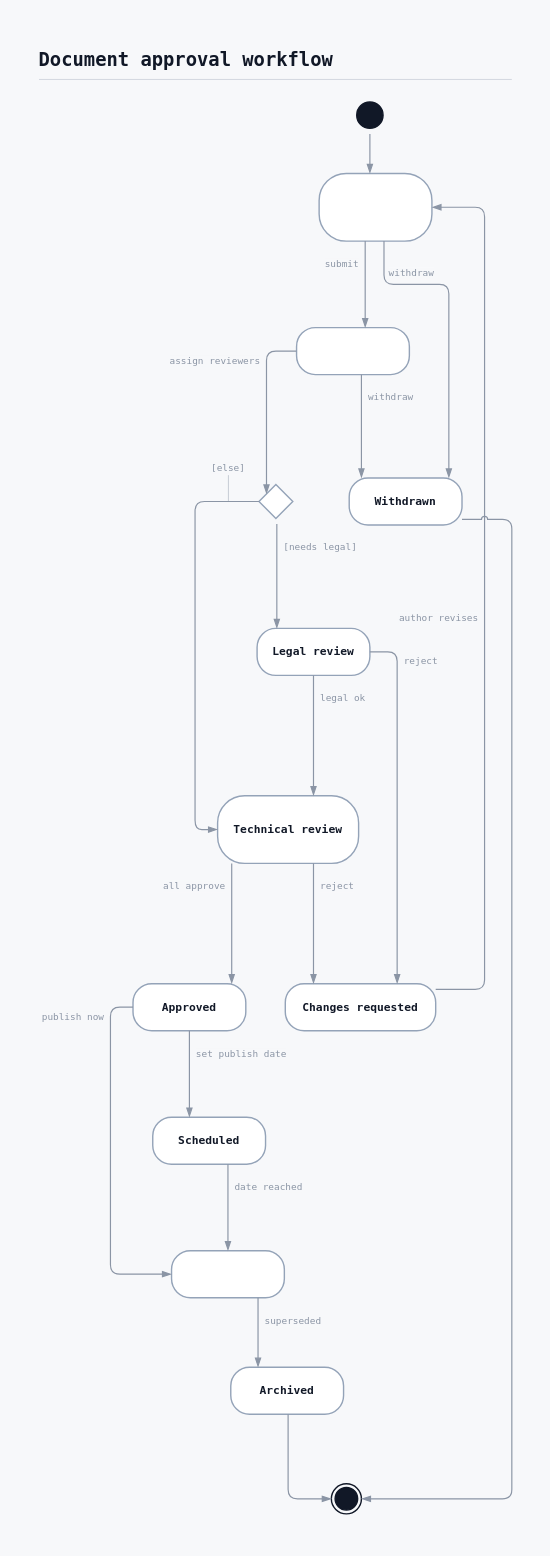
Some shapes in this 550 by 1556 pixel diagram are drawn without their labels. Each missing label, with the centre of its shape:
Draft: [375,206]
Published: [227,1274]
Submitted: [352,350]
